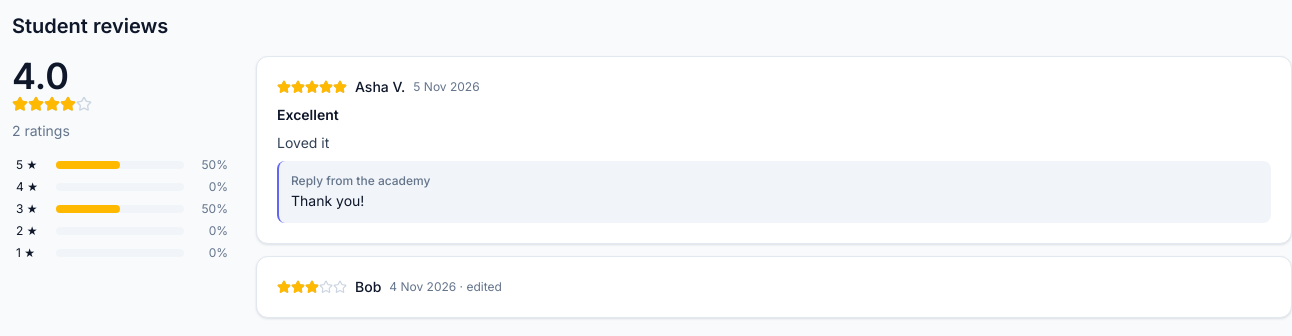
Test: course page reviews: summary, distribution filter and replies
Expected: the heading "Student reviews" is shown, [12, 14, 168, 38]
Expected: the text "2 ratings" is shown, [12, 122, 70, 139]
Step 1. Click the button named "5 stars: 50%" → (122, 165), box [12, 157, 232, 173]
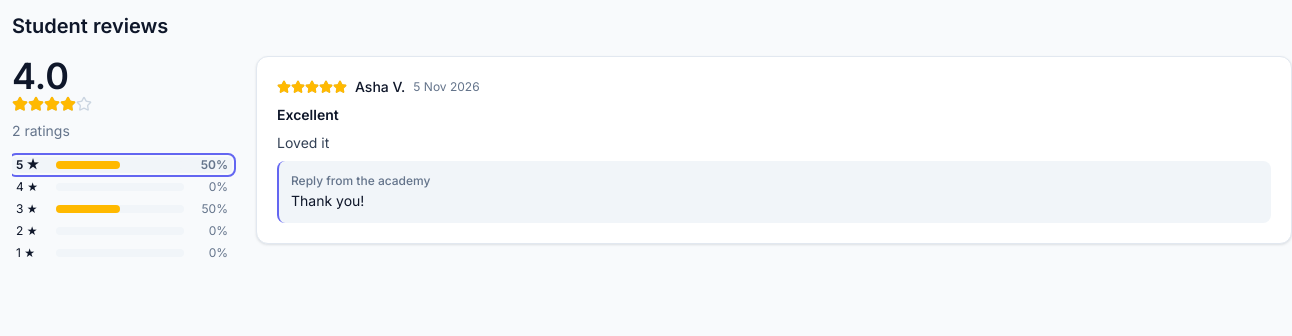
Result: the text "Bob" is gone
